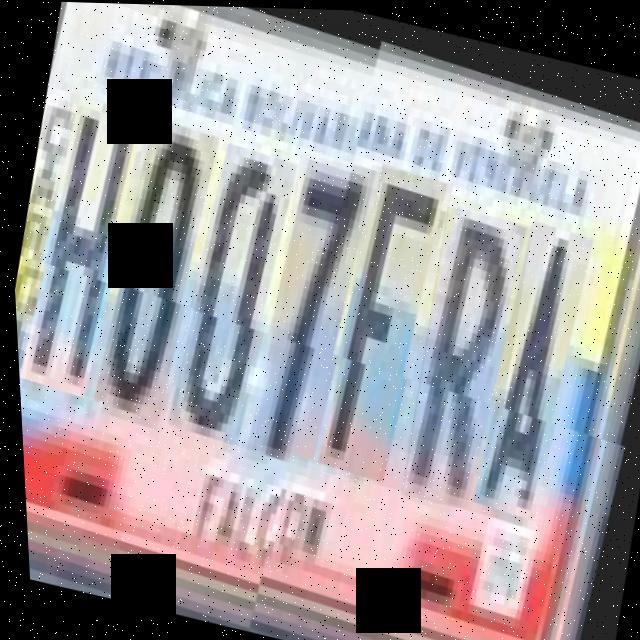0: (156, 135, 315, 446)
7: (236, 149, 392, 468)
A: (459, 215, 609, 524)
F: (304, 160, 464, 490)
H: (8, 91, 163, 401)
O: (83, 113, 237, 423)
R: (383, 202, 542, 513)
